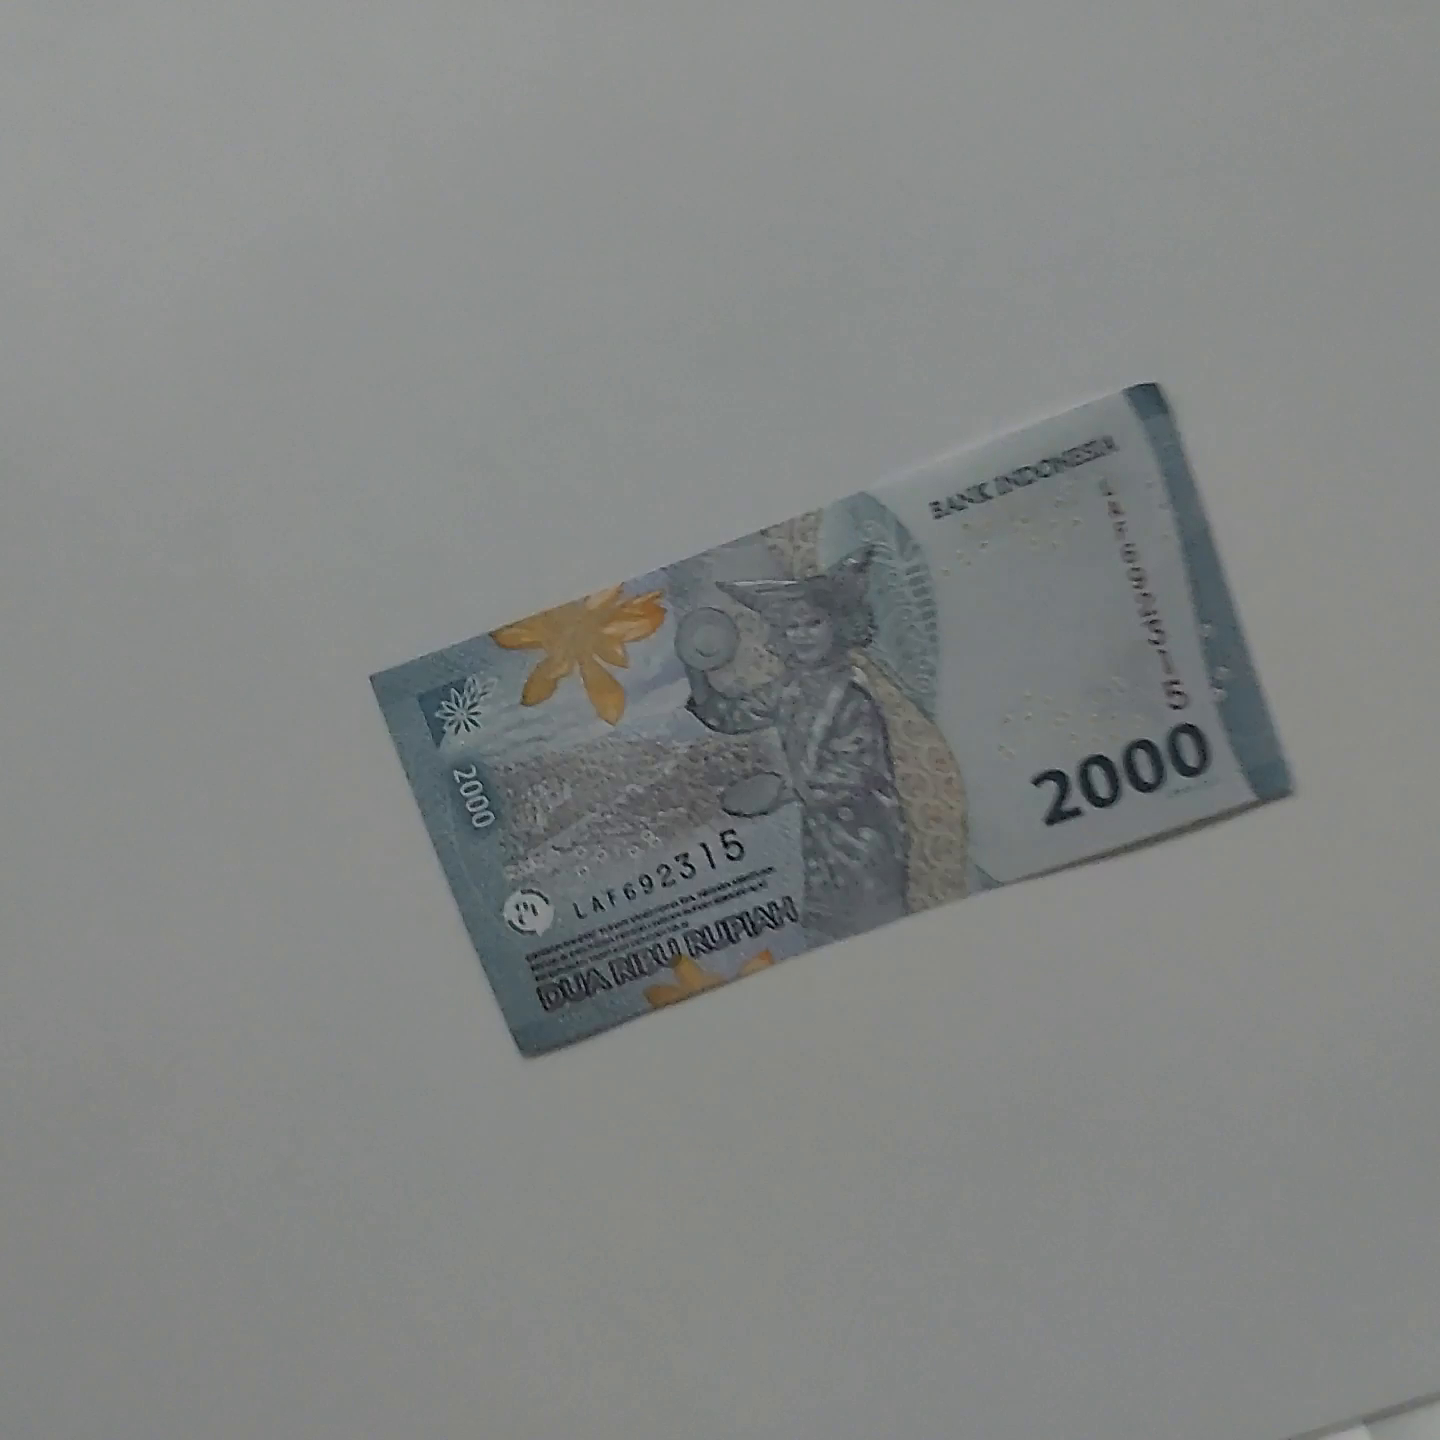2k: (311, 691, 1247, 1153)
